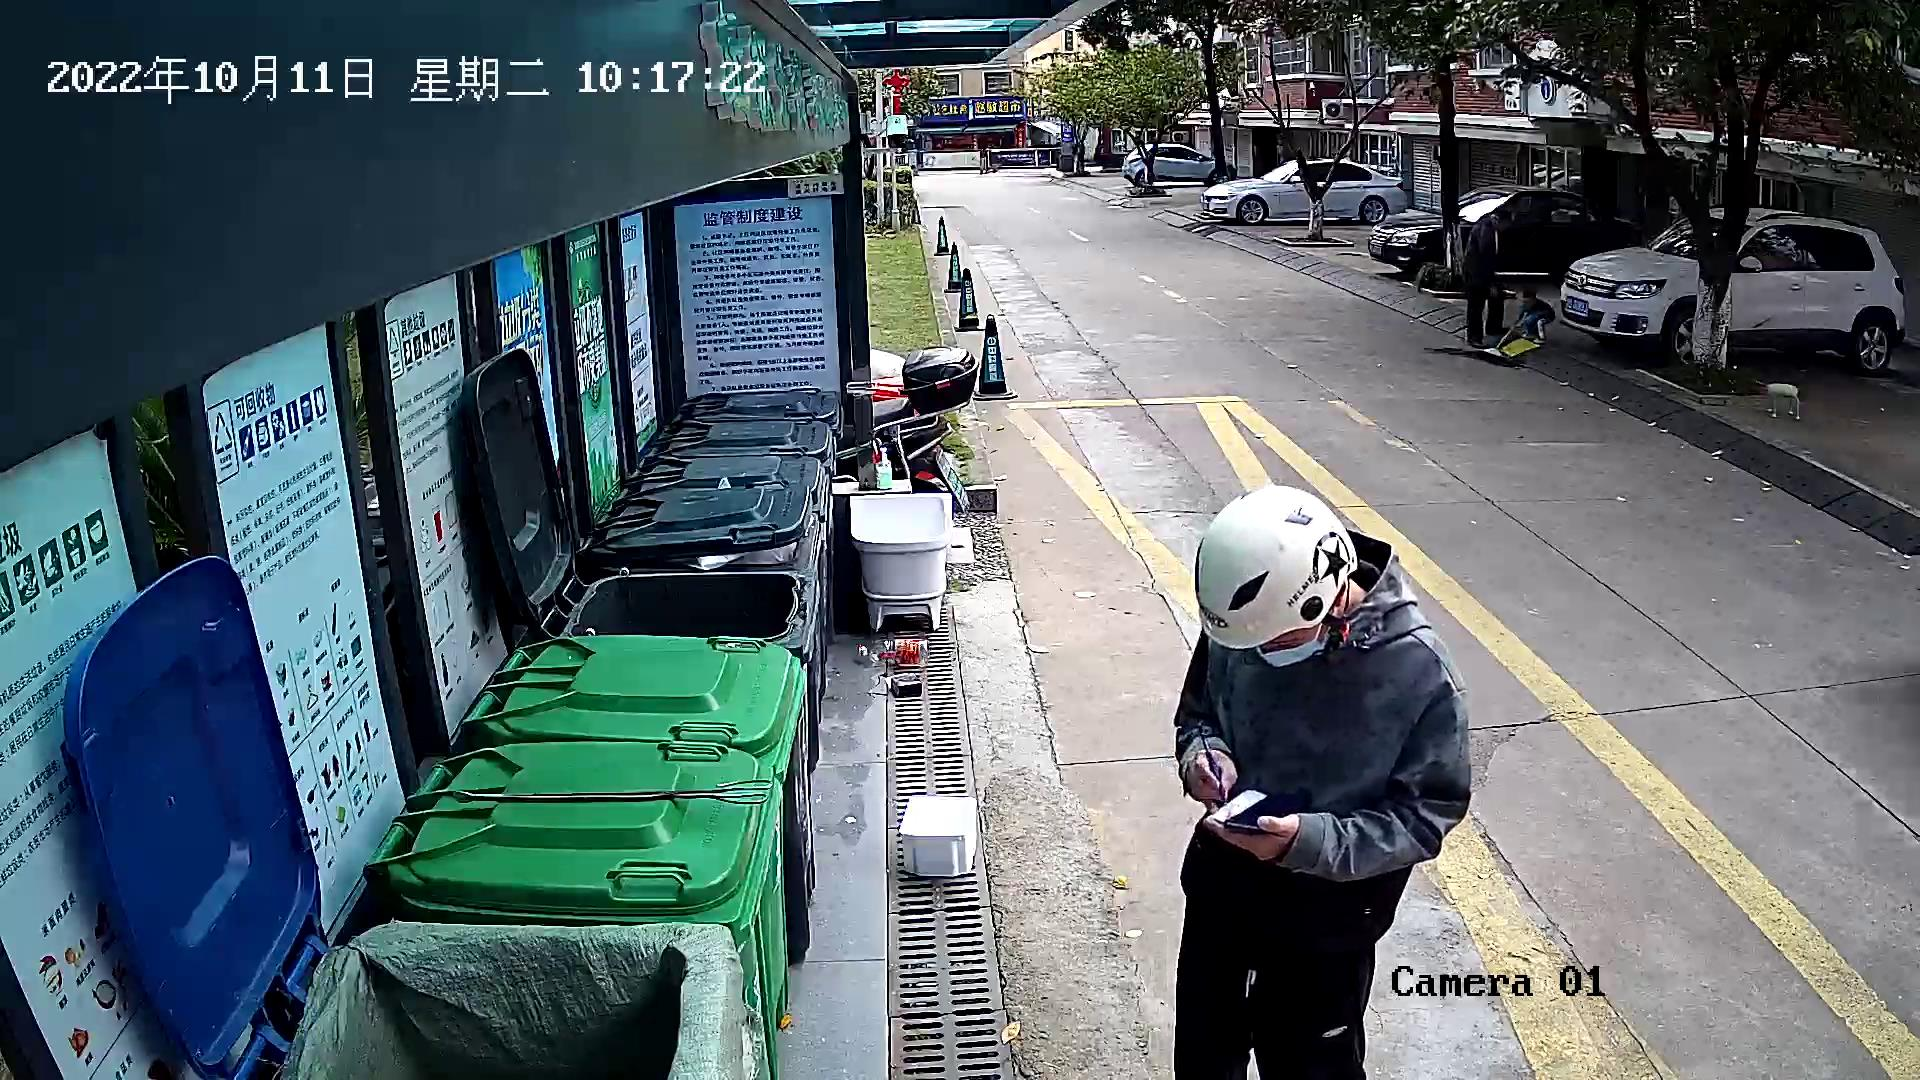paomozhipin: (892, 783, 986, 887)
person: (1153, 477, 1483, 1080)
suliaozhipin: (849, 630, 933, 669)
zhizhipin: (877, 664, 929, 706)
